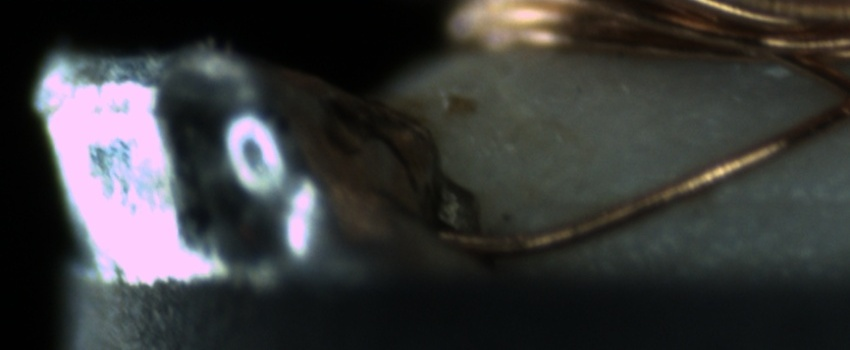CL: (805, 64, 850, 132)
DL: (634, 168, 850, 232)
